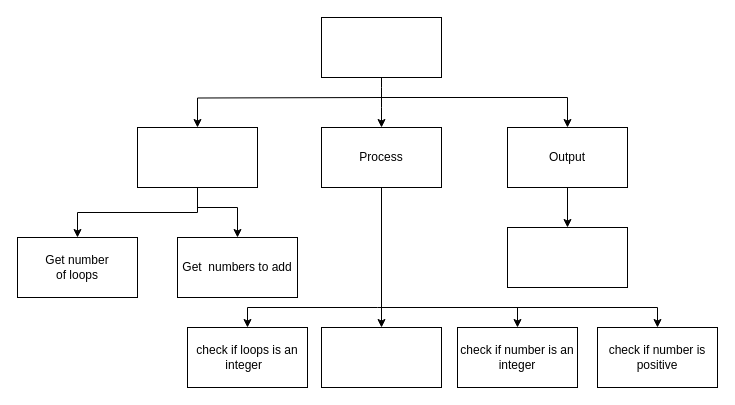
This 735x405 diagram has some shape labels left out. Each missing label, with the centre of its shape:
add all the positive inputs: [567,257]
Check if loop is positive: [381,357]
continue loops: [381,47]
Input: [197,157]
